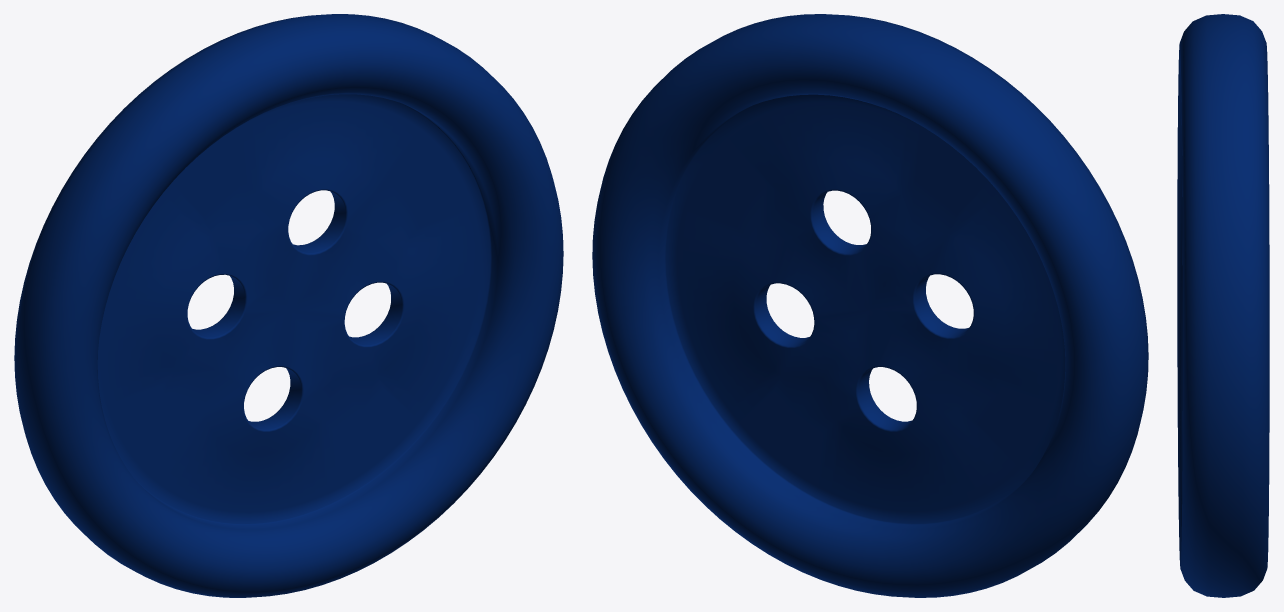
Rendered from Bouton.fbx.
3 views of the same model, side by side, from view 1: azimuth 30°, elevation 25°; view 2: azimuth 150°, elevation 25°; view 3: azimuth 270°, elevation 25° (orthographic). The views are drawn at different scales.
Parts seen in each view (by area): view 1: Buttons_003; view 2: Buttons_003; view 3: Buttons_003.
Part boxes in pixels (box(x1,y1,x2,y2)): Buttons_003: box(14, 14, 563, 597); Buttons_003: box(592, 14, 1148, 597); Buttons_003: box(1177, 14, 1269, 597).
Bounding box in the file's own units: 221 × 221 × 34.89.
